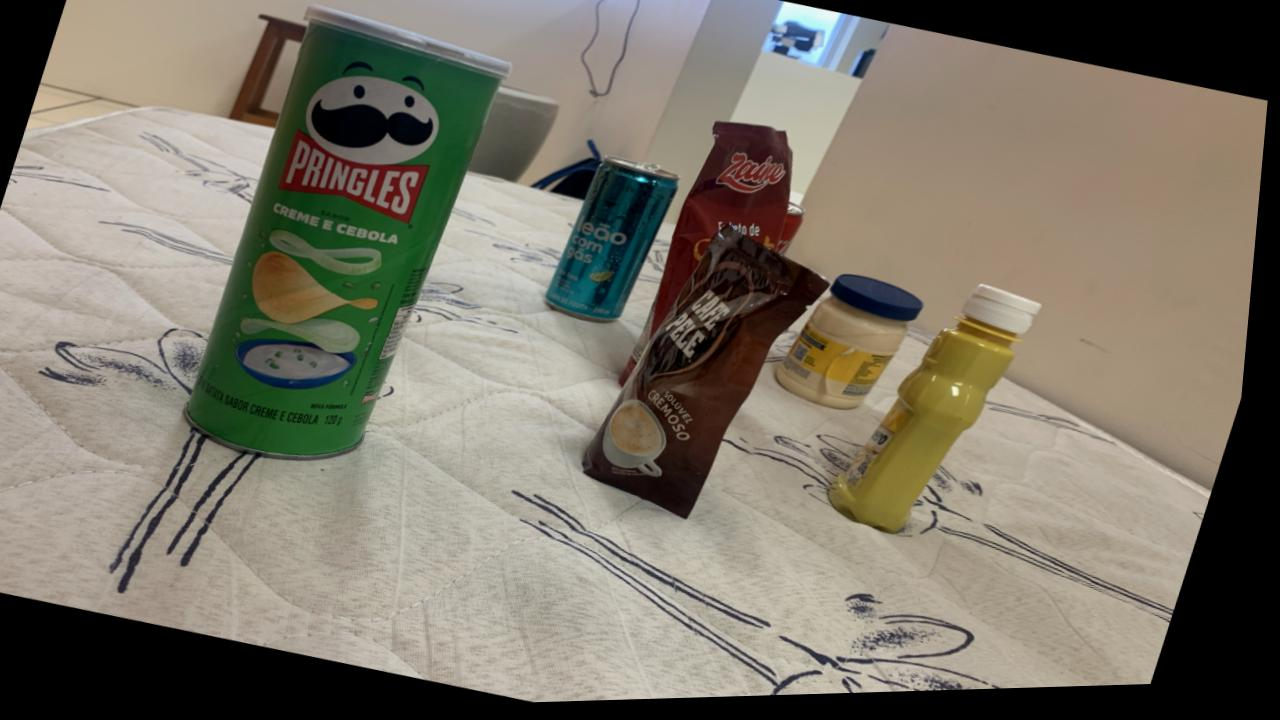Coffee-Pantry_Items: (591, 231, 833, 522)
Coke-Drinks: (780, 207, 809, 258)
Mayonnaise-Pantry_Items: (782, 279, 928, 415)
Mustard-Pantry_Items: (838, 291, 1047, 539)
Pringles-Snacks: (191, 7, 512, 461)
Tea-Drinks: (550, 161, 682, 327)
Tomato_Sauce-Pantry_Items: (629, 125, 796, 385)
